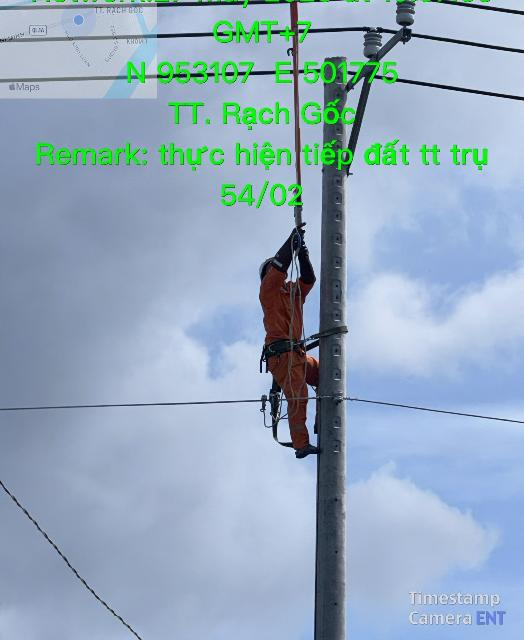gloves: (272, 222, 305, 272), (294, 237, 321, 287)
harness: (254, 336, 327, 358)
helmet: (254, 248, 288, 278)
shoes: (292, 443, 325, 459)
